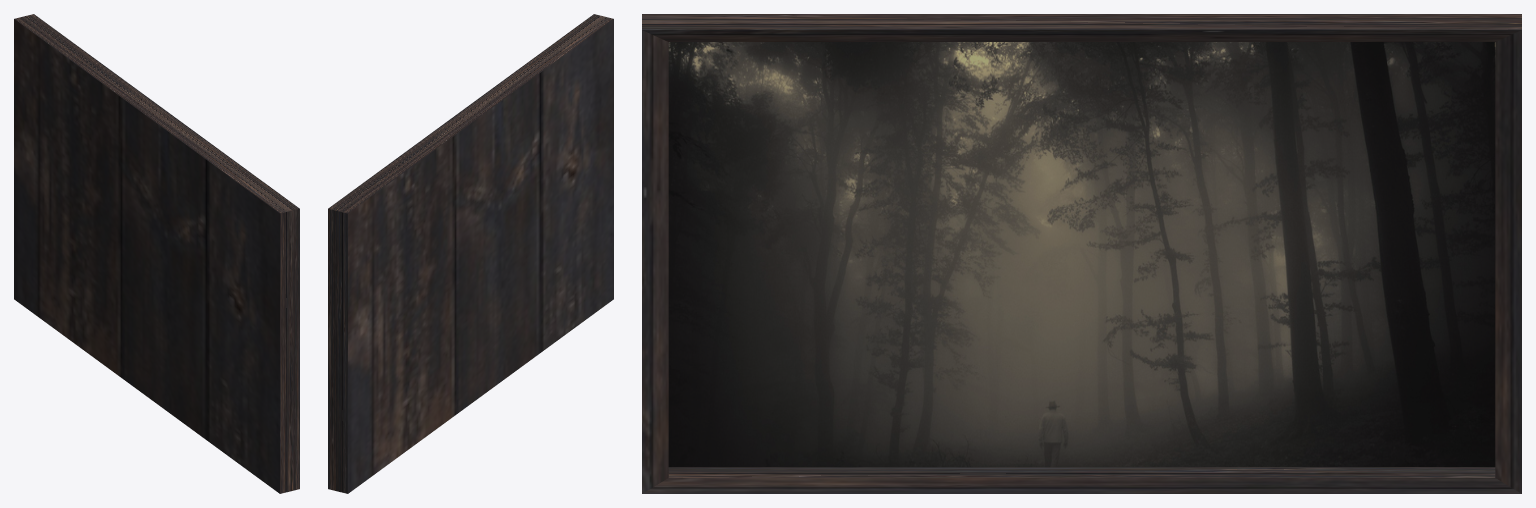
The model's file is large_framed_picture_wood.glb.
3 views of the same model, side by side, from view 1: azimuth 30°, elevation 25°; view 2: azimuth 150°, elevation 25°; view 3: azimuth 270°, elevation 25° (orthographic). The views are drawn at different scales.
Parts seen in each view (by area): view 1: Object_3; view 2: Object_3; view 3: Object_2, Object_3.
Boxes of the visible parts, box(x1,y1,x2,y2) form: Object_3: box(14, 14, 299, 493); Object_3: box(328, 14, 613, 493); Object_2: box(668, 42, 1495, 467); Object_3: box(642, 14, 1521, 493).
Size of the model in its own units: 0.18 by 2.42 by 4.16.
Materials: 2 (2 with a texture image).
